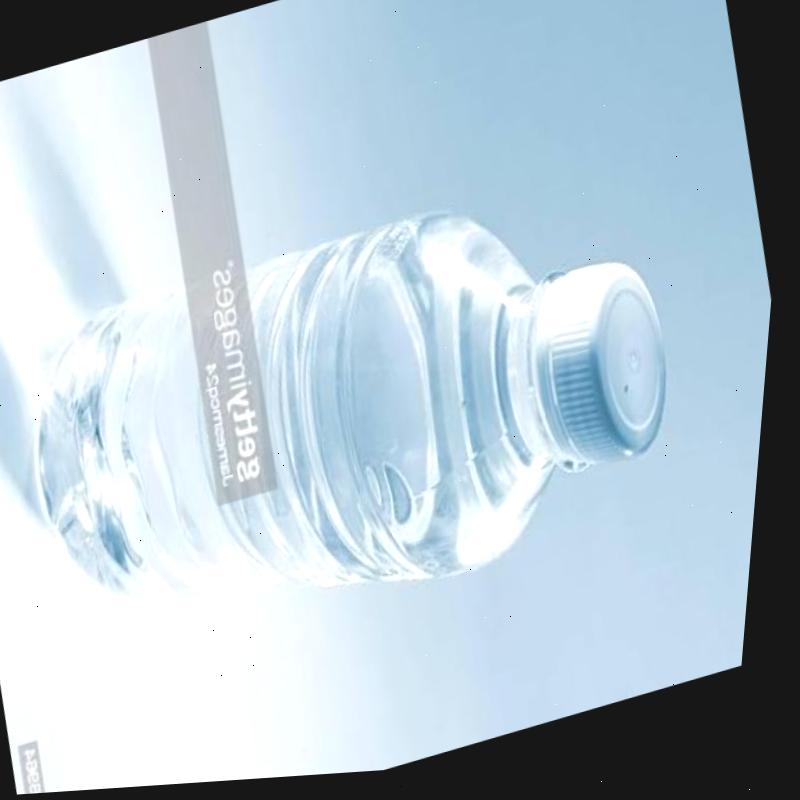botella: (0, 146, 725, 691)
